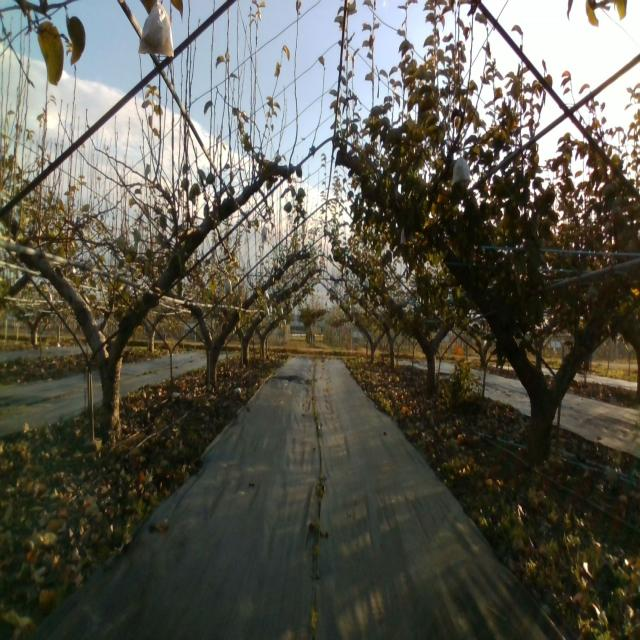pearbags: (138, 1, 174, 58), (451, 156, 472, 188)
